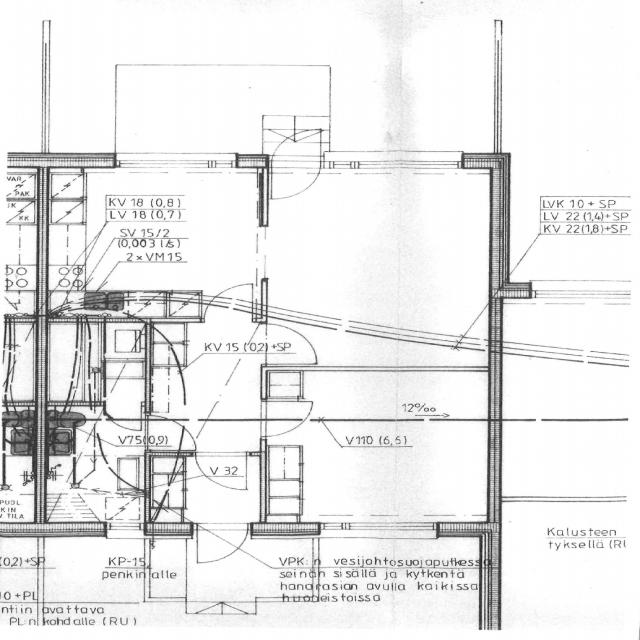door: (196, 523, 248, 573), (260, 324, 324, 364), (272, 119, 321, 168), (272, 153, 321, 202), (196, 452, 247, 492), (260, 402, 316, 436), (144, 416, 199, 450), (204, 284, 252, 322), (103, 402, 141, 432)
